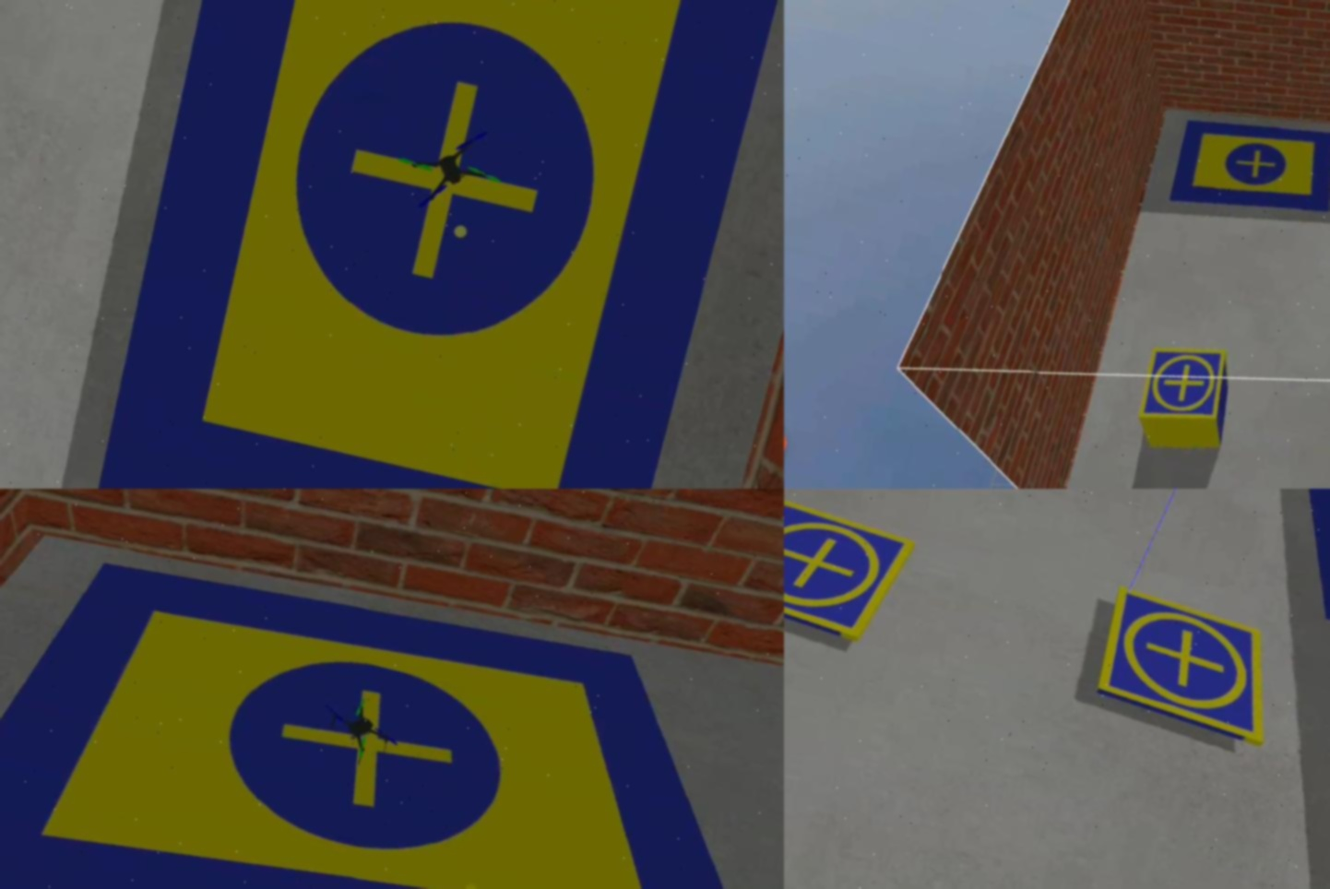large_base: (72, 1, 784, 490), (1, 490, 784, 889), (1170, 99, 1330, 238)
small_base: (1086, 583, 1295, 753), (784, 490, 920, 656), (1138, 339, 1237, 439)
